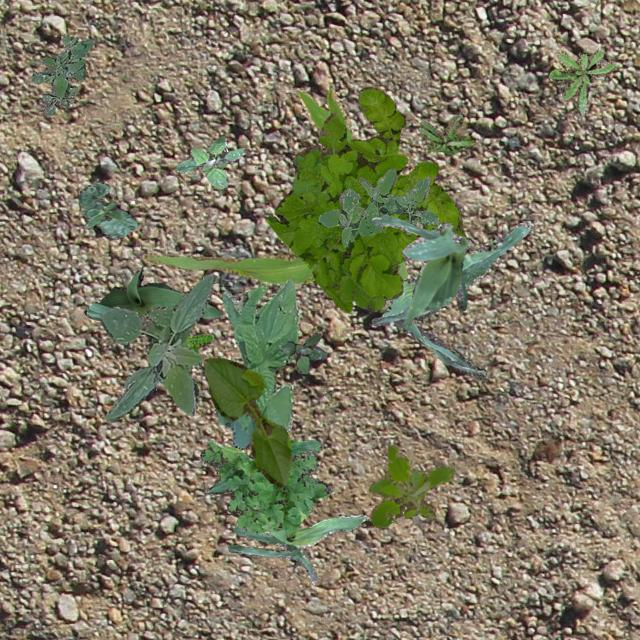crop: (142, 86, 406, 282), (380, 220, 532, 378), (214, 277, 298, 448), (202, 356, 290, 486), (370, 213, 470, 324), (226, 514, 366, 584), (84, 266, 222, 320), (77, 180, 136, 238)
weed: (266, 86, 464, 312), (100, 272, 214, 420), (200, 438, 330, 532), (317, 168, 438, 246), (364, 442, 454, 526), (29, 34, 92, 114), (548, 48, 614, 114), (176, 134, 244, 188), (416, 114, 474, 152), (278, 332, 326, 372), (185, 333, 212, 352)
